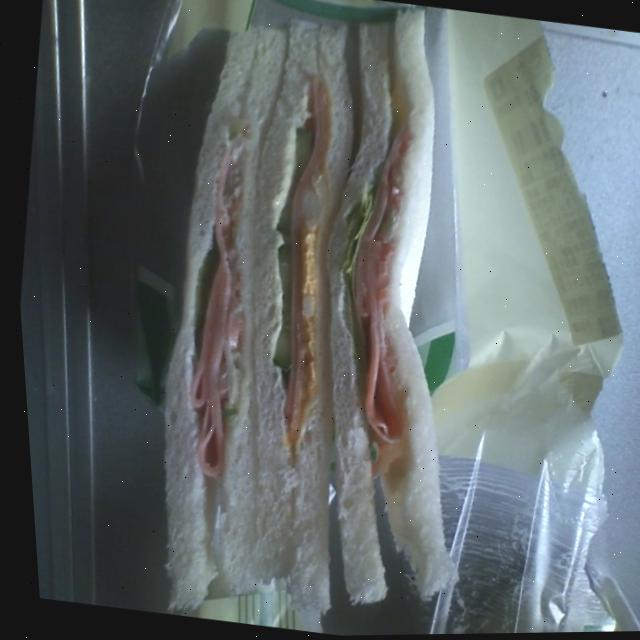三明治: (38, 62, 361, 628)
